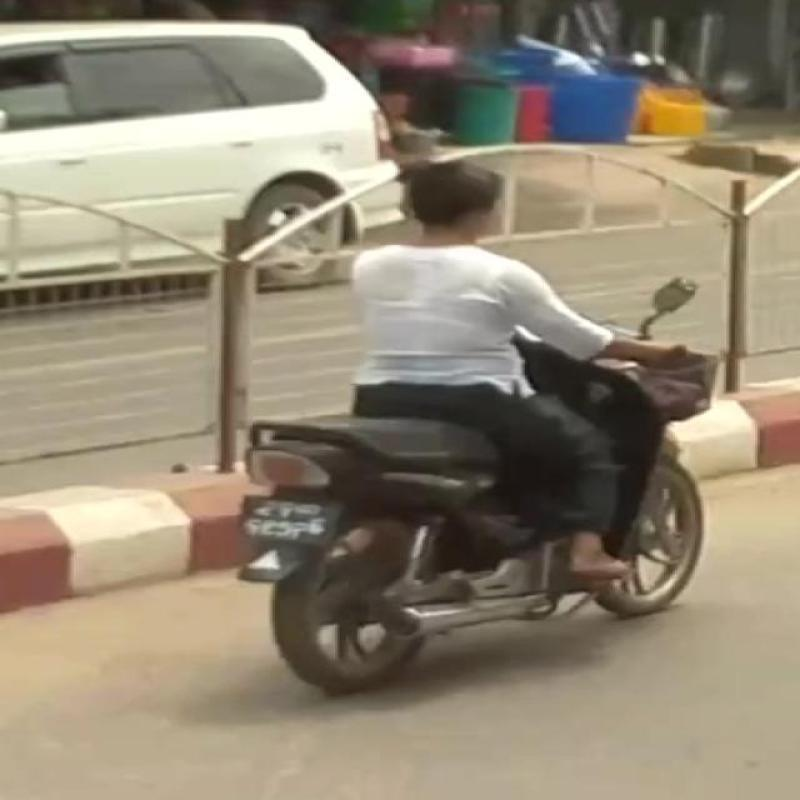nohelmet: (351, 166, 560, 246)
